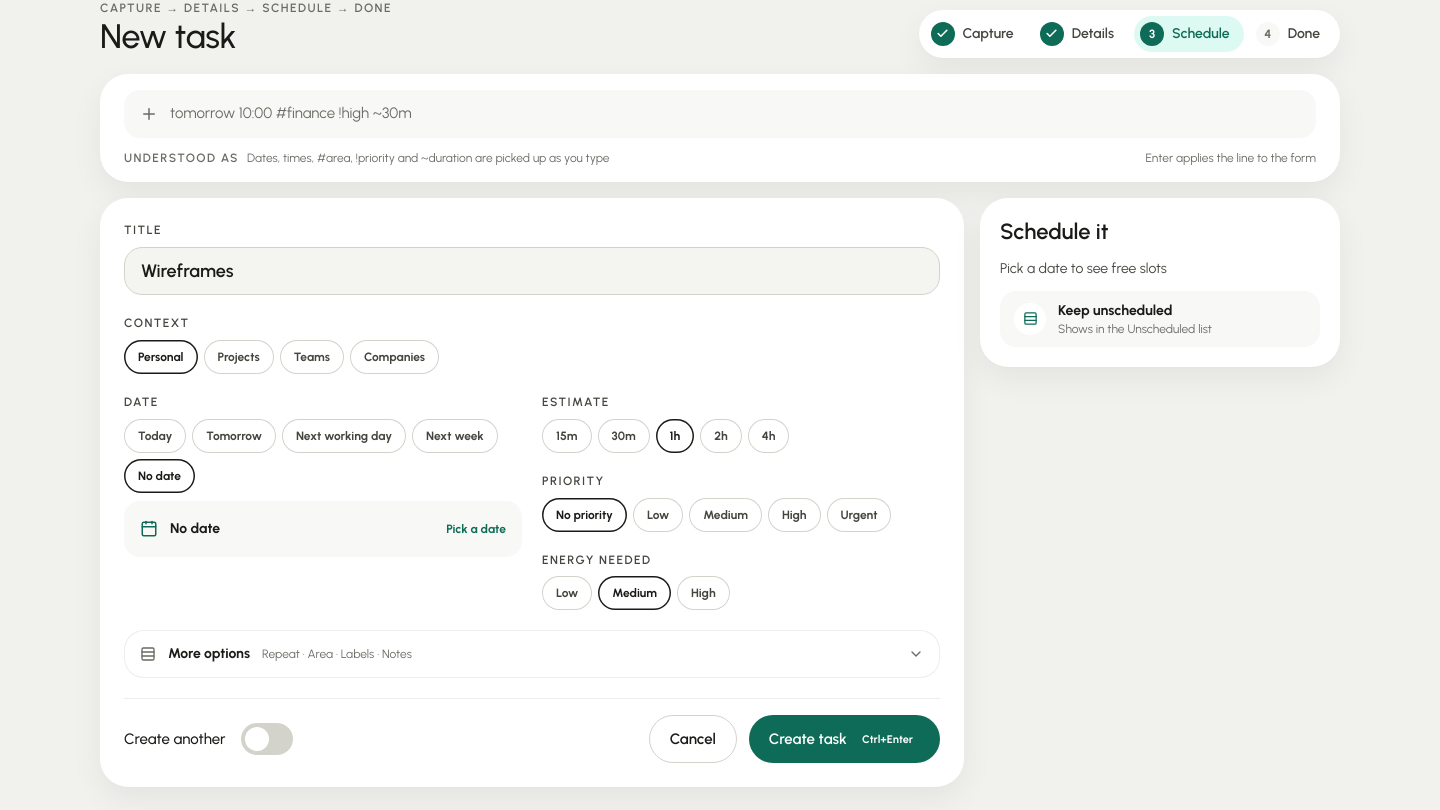
it: TaskCreateScreen · estimate buffer (P15) › plans a design task as 1.5× but creates it with the raw estimate
This screenshot has width=1440, height=810.
Expected: the text "Plans as" is not shown
Click the text "More options" at (209, 654), box [168,644,250,664]
(page scrolled)
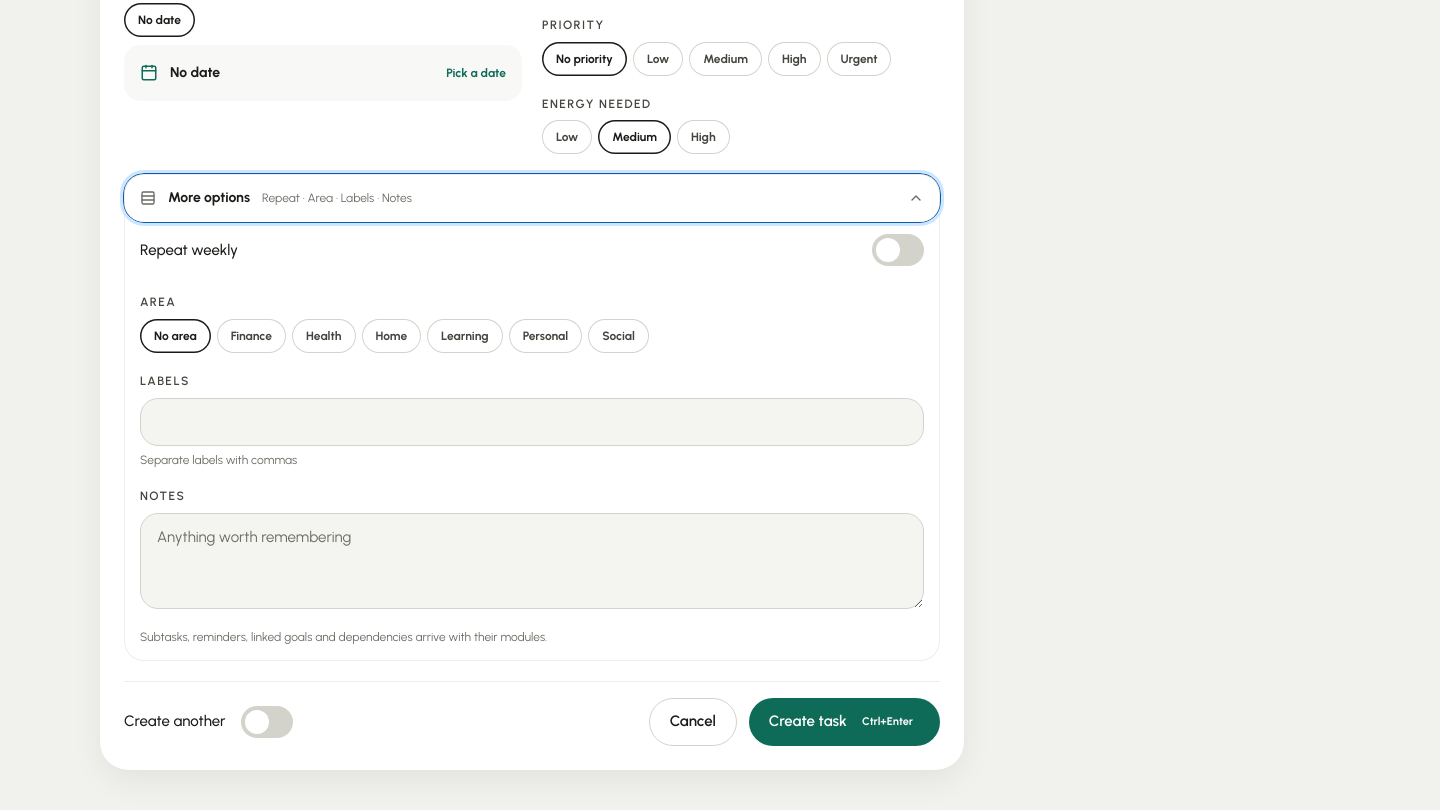
Type "design" into the field labelled "Labels" at (532, 422), box [141,399,923,445]
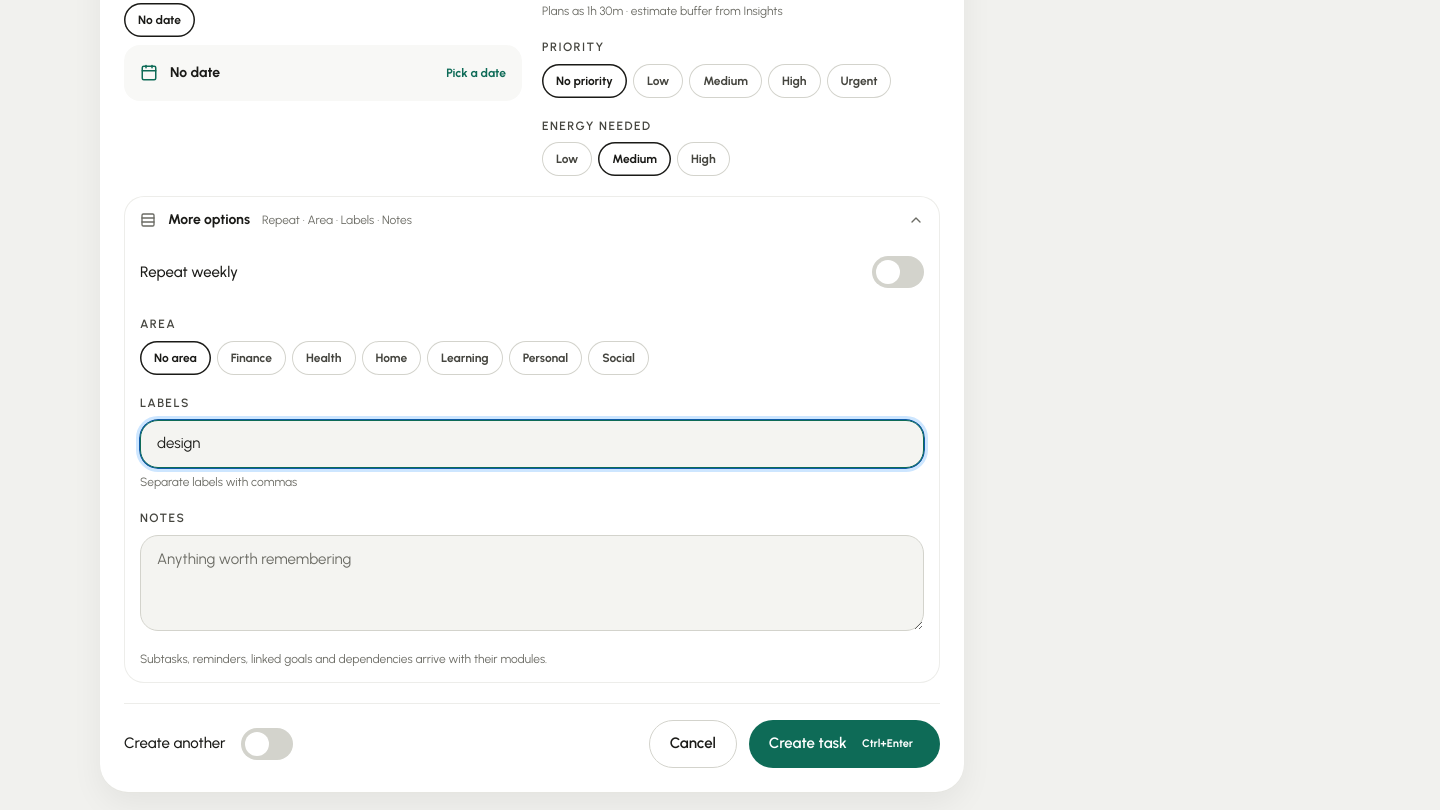
Result: the text "Plans as 1h 30m · estimate buffer from Insights" is shown at [542,4,783,18]
Click the button "Create task Ctrl+Enter" at (844, 744), box [749,720,940,768]
(page scrolled)
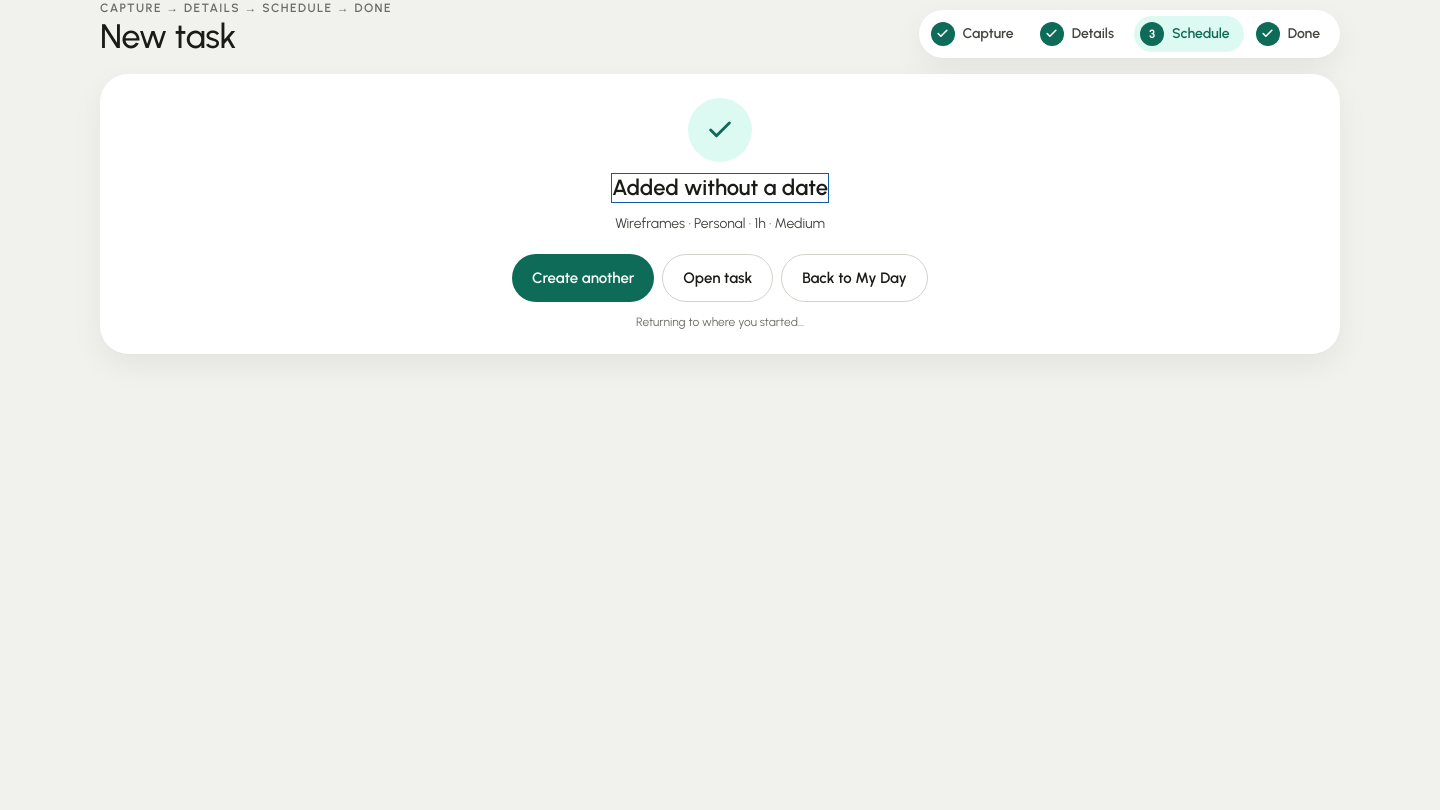
Result: the heading "Added without a date" is shown at [612,174,828,202]
Result: the text "Wireframes · Personal · 1h · Medium" is shown at [615,214,825,234]
Result: the text "1h 30m" is gone
